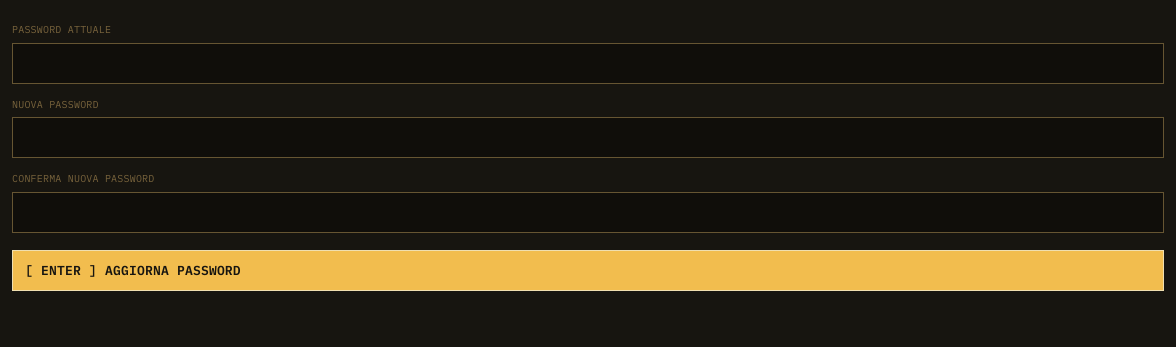
Test: ChangePasswordForm › richiede una nuova password di almeno 6 caratteri
This screenshot has width=1176, height=347.
Type "provvisoria" into the password field labelled "password attuale" at {"x": 588, "y": 63}, box [12,42,1164,84]
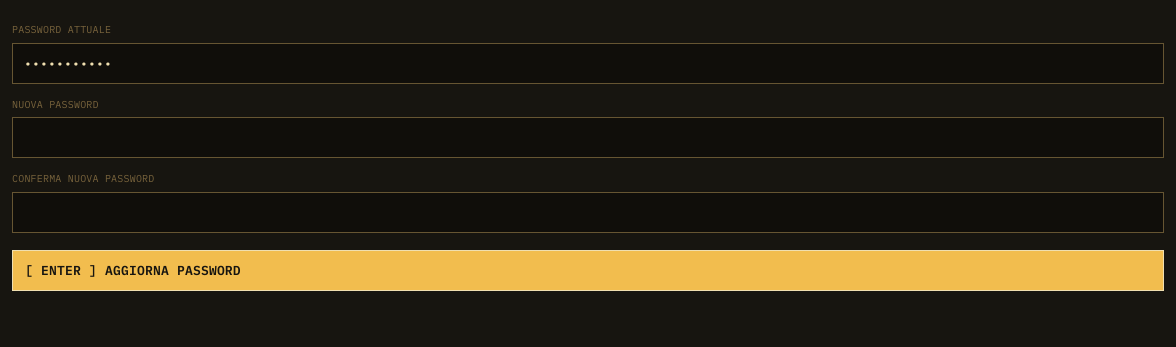
Type "123" into the password field labelled "nuova password" at {"x": 588, "y": 138}, box [12,117,1164,158]
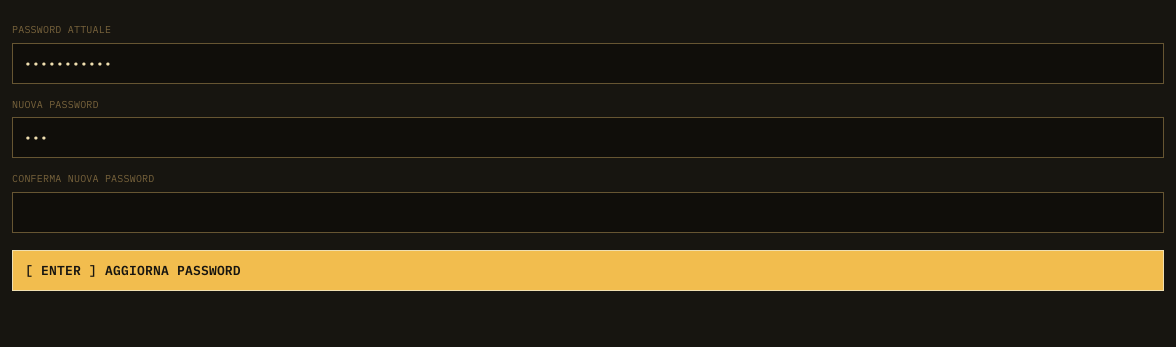
Submit the form
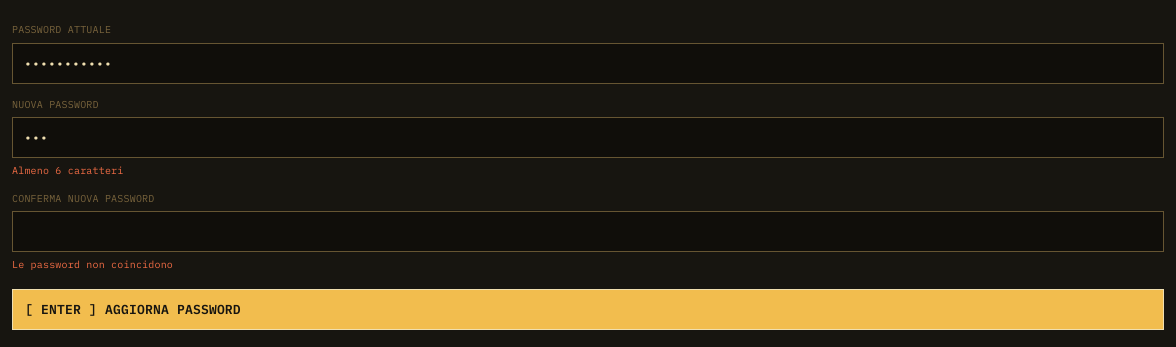
Result: the text "Almeno 6 caratteri" is shown at [12,164,124,177]
